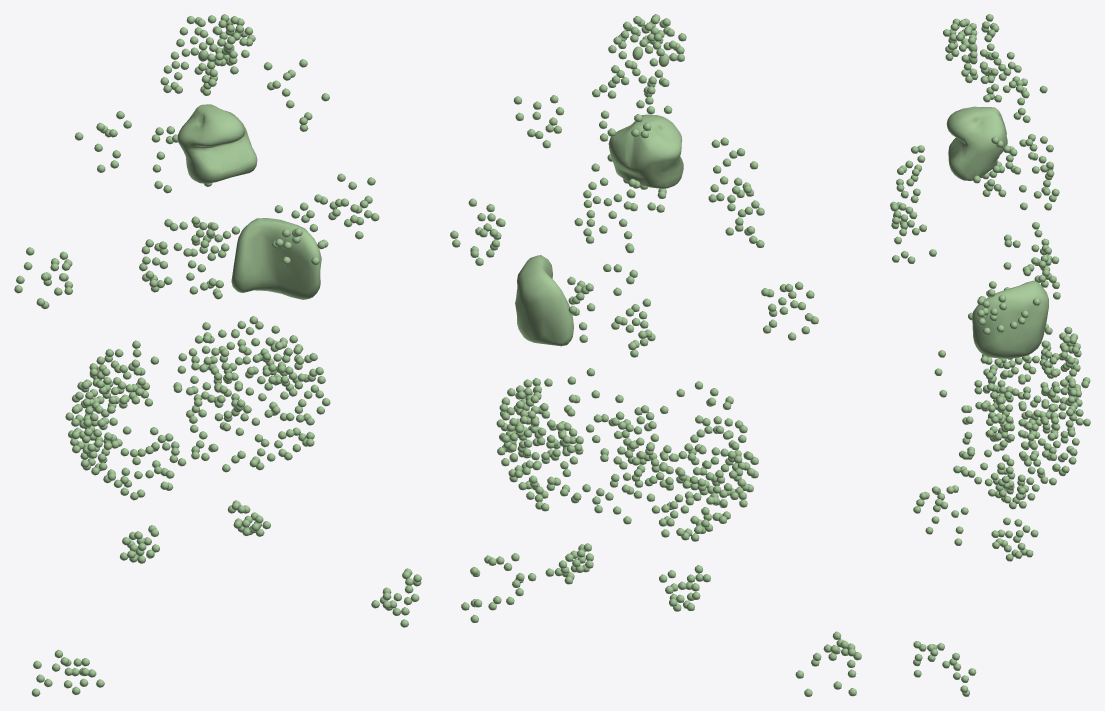
The model's file is pediatric_neonate_female.lymphatic.LOD0.glb.
The picture shows the model from 3 angles, left to right: view 1: azimuth 30°, elevation 25°; view 2: azimuth 150°, elevation 25°; view 3: azimuth 270°, elevation 25°; orthographic projection. The views are drawn at different scales.
Parts seen in each view (by area): view 1: PEDIATRIC.NEONATE.FEMALE.LYMPHATIC.LYMPHATIC_NODES_TRUNK, PEDIATRIC.NEONATE.FEMALE.LYMPHATIC.SPLEEN, PEDIATRIC.NEONATE.FEMALE.LYMPHATIC.THYMUS, PEDIATRIC.NEONATE.FEMALE.LYMPHATIC.LYMPHATIC_NODES_ET, PEDIATRIC.NEONATE.FEMALE.LYMPHATIC.LYMPHATIC_NODES_THORACIC, PEDIATRIC.NEONATE.FEMALE.LYMPHATIC.LYMPHATIC_NODES_LEGS, PEDIATRIC.NEONATE.FEMALE.LYMPHATIC.LYMPHATIC_NODES_ARMS, PEDIATRIC.NEONATE.FEMALE.LYMPHATIC.LYMPHATIC_NODES_HEAD; view 2: PEDIATRIC.NEONATE.FEMALE.LYMPHATIC.LYMPHATIC_NODES_TRUNK, PEDIATRIC.NEONATE.FEMALE.LYMPHATIC.THYMUS, PEDIATRIC.NEONATE.FEMALE.LYMPHATIC.SPLEEN, PEDIATRIC.NEONATE.FEMALE.LYMPHATIC.LYMPHATIC_NODES_THORACIC, PEDIATRIC.NEONATE.FEMALE.LYMPHATIC.LYMPHATIC_NODES_ET, PEDIATRIC.NEONATE.FEMALE.LYMPHATIC.LYMPHATIC_NODES_ARMS, PEDIATRIC.NEONATE.FEMALE.LYMPHATIC.LYMPHATIC_NODES_LEGS, PEDIATRIC.NEONATE.FEMALE.LYMPHATIC.LYMPHATIC_NODES_HEAD; view 3: PEDIATRIC.NEONATE.FEMALE.LYMPHATIC.LYMPHATIC_NODES_TRUNK, PEDIATRIC.NEONATE.FEMALE.LYMPHATIC.SPLEEN, PEDIATRIC.NEONATE.FEMALE.LYMPHATIC.THYMUS, PEDIATRIC.NEONATE.FEMALE.LYMPHATIC.LYMPHATIC_NODES_THORACIC, PEDIATRIC.NEONATE.FEMALE.LYMPHATIC.LYMPHATIC_NODES_ET, PEDIATRIC.NEONATE.FEMALE.LYMPHATIC.LYMPHATIC_NODES_LEGS, PEDIATRIC.NEONATE.FEMALE.LYMPHATIC.LYMPHATIC_NODES_ARMS, PEDIATRIC.NEONATE.FEMALE.LYMPHATIC.LYMPHATIC_NODES_HEAD.
Part boxes in pixels (x1,y1,x2,y2): PEDIATRIC.NEONATE.FEMALE.LYMPHATIC.LYMPHATIC_NODES_TRUNK: (65, 59, 330, 563); PEDIATRIC.NEONATE.FEMALE.LYMPHATIC.SPLEEN: (231, 218, 321, 299); PEDIATRIC.NEONATE.FEMALE.LYMPHATIC.THYMUS: (177, 104, 257, 183); PEDIATRIC.NEONATE.FEMALE.LYMPHATIC.LYMPHATIC_NODES_ET: (176, 14, 255, 86); PEDIATRIC.NEONATE.FEMALE.LYMPHATIC.LYMPHATIC_NODES_THORACIC: (139, 126, 239, 299); PEDIATRIC.NEONATE.FEMALE.LYMPHATIC.LYMPHATIC_NODES_LEGS: (31, 568, 421, 696); PEDIATRIC.NEONATE.FEMALE.LYMPHATIC.LYMPHATIC_NODES_ARMS: (14, 173, 379, 309); PEDIATRIC.NEONATE.FEMALE.LYMPHATIC.LYMPHATIC_NODES_HEAD: (160, 44, 232, 95); PEDIATRIC.NEONATE.FEMALE.LYMPHATIC.LYMPHATIC_NODES_TRUNK: (496, 95, 764, 611); PEDIATRIC.NEONATE.FEMALE.LYMPHATIC.THYMUS: (608, 114, 683, 188); PEDIATRIC.NEONATE.FEMALE.LYMPHATIC.SPLEEN: (515, 255, 573, 346); PEDIATRIC.NEONATE.FEMALE.LYMPHATIC.LYMPHATIC_NODES_THORACIC: (567, 177, 655, 357); PEDIATRIC.NEONATE.FEMALE.LYMPHATIC.LYMPHATIC_NODES_ET: (608, 14, 686, 94); PEDIATRIC.NEONATE.FEMALE.LYMPHATIC.LYMPHATIC_NODES_ARMS: (450, 198, 818, 340); PEDIATRIC.NEONATE.FEMALE.LYMPHATIC.LYMPHATIC_NODES_LEGS: (461, 553, 861, 696); PEDIATRIC.NEONATE.FEMALE.LYMPHATIC.LYMPHATIC_NODES_HEAD: (592, 75, 672, 141); PEDIATRIC.NEONATE.FEMALE.LYMPHATIC.LYMPHATIC_NODES_TRUNK: (890, 58, 1090, 561); PEDIATRIC.NEONATE.FEMALE.LYMPHATIC.SPLEEN: (972, 280, 1048, 358); PEDIATRIC.NEONATE.FEMALE.LYMPHATIC.THYMUS: (946, 106, 1007, 180); PEDIATRIC.NEONATE.FEMALE.LYMPHATIC.LYMPHATIC_NODES_THORACIC: (1003, 134, 1060, 299); PEDIATRIC.NEONATE.FEMALE.LYMPHATIC.LYMPHATIC_NODES_ET: (943, 14, 999, 83); PEDIATRIC.NEONATE.FEMALE.LYMPHATIC.LYMPHATIC_NODES_LEGS: (913, 485, 976, 696); PEDIATRIC.NEONATE.FEMALE.LYMPHATIC.LYMPHATIC_NODES_ARMS: (977, 153, 1040, 335); PEDIATRIC.NEONATE.FEMALE.LYMPHATIC.LYMPHATIC_NODES_HEAD: (980, 52, 1030, 122).
Bounding box in the file's own units: 0.1867 × 0.2971 × 0.0906.
